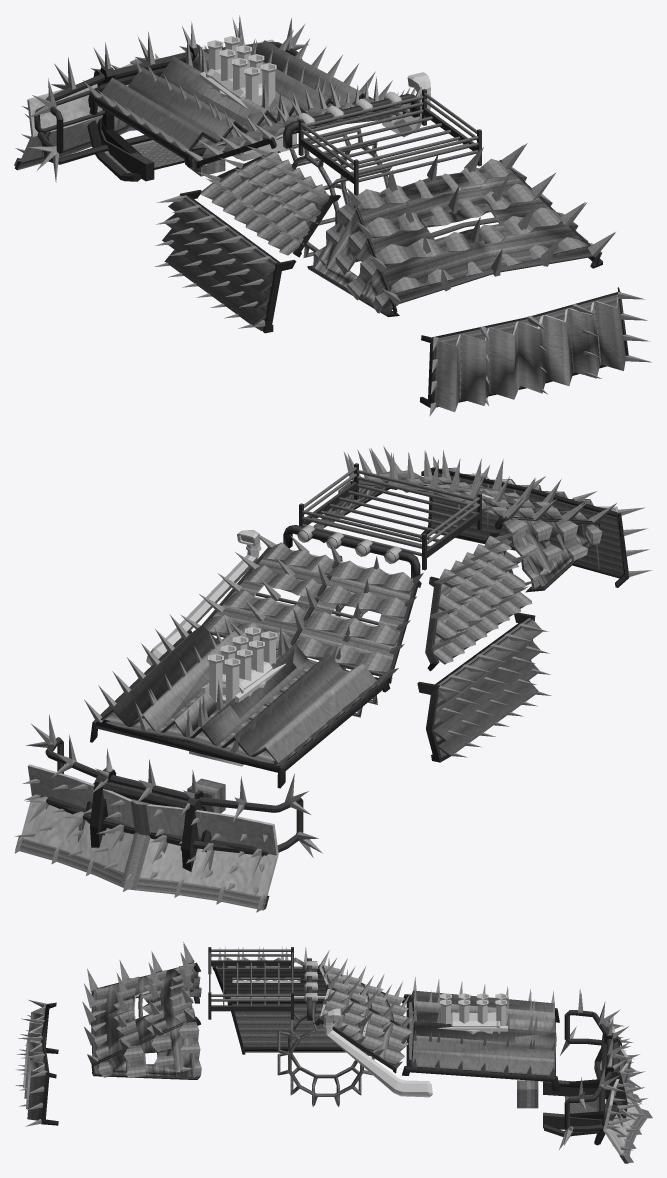
The model's file is SportsCarArmor.fbx.
3 views of the same model, one above another, from view 1: azimuth 30°, elevation 25°; view 2: azimuth 150°, elevation 25°; view 3: azimuth 270°, elevation 25° (orthographic). The views are drawn at different scales.
Visible parts, largest first — view 1: trunkreinforcedrear, windowheavyrear, windowreinforcedrear, hoodreinforcedfront, roofrack, doorfrontreinforcedleft, windowfrontreinforcedleft, hoodreinforcedfrontscoop, plow, airscooppiped, pushbar_medium, hoodheavyspikedfront (+19 smaller); view 2: plow, hoodreinforcedfrontscoop, hoodreinforcedfront, windowreinforcedfront, plow_spiked, roofrack, doorfrontreinforcedleft, windowfrontreinforcedleft, pushbar_large_spiked, windowreinforcedrear, windowheavyfront, windowheavyspikedfront (+24 smaller); view 3: hoodreinforcedfront, windowheavyrear, windowreinforcedrear, hoodreinforcedfrontscoop, windowreinforcedfront, doorfrontheavyleft, roofrack, windowfrontheavyleft, chaintires, pushbar_large_spiked, trunkreinforcedrear, snorkel (+21 smaller).
Part boxes in pixels (x1,y1,x2,y2): trunkreinforcedrear: [432, 292, 625, 412]; windowheavyrear: [307, 160, 602, 317]; windowreinforcedrear: [313, 158, 601, 313]; hoodreinforcedfront: [101, 40, 370, 158]; roofrack: [298, 89, 481, 195]; doorfrontreinforcedleft: [162, 195, 279, 330]; windowfrontreinforcedleft: [200, 151, 329, 255]; hoodreinforcedfrontscoop: [100, 40, 362, 148]; plow: [14, 39, 274, 170]; airscooppiped: [200, 36, 296, 161]; pushbar_medium: [41, 60, 192, 181]; hoodheavyspikedfront: [84, 30, 392, 151]; plow: [14, 764, 278, 912]; hoodreinforcedfrontscoop: [96, 625, 379, 772]; hoodreinforcedfront: [103, 631, 383, 766]; windowreinforcedfront: [203, 542, 413, 673]; plow_spiked: [14, 766, 275, 896]; roofrack: [299, 463, 481, 570]; doorfrontreinforcedleft: [433, 618, 542, 761]; windowfrontreinforcedleft: [433, 536, 532, 664]; pushbar_large_spiked: [26, 714, 322, 878]; windowreinforcedrear: [314, 470, 602, 589]; windowheavyfront: [202, 548, 414, 683]; windowheavyspikedfront: [181, 535, 423, 682]; hoodreinforcedfront: [406, 990, 555, 1075]; windowheavyrear: [91, 962, 200, 1079]; windowreinforcedrear: [92, 963, 201, 1077]; hoodreinforcedfrontscoop: [407, 990, 555, 1075]; windowreinforcedfront: [322, 965, 411, 1065]; doorfrontheavyleft: [227, 997, 363, 1054]; roofrack: [208, 947, 293, 1019]; windowfrontheavyleft: [212, 964, 327, 998]; chaintires: [277, 1002, 374, 1106]; pushbar_large_spiked: [559, 989, 645, 1149]; trunkreinforcedrear: [23, 1004, 49, 1120]; snorkel: [323, 1008, 432, 1097].
Size of the model in its own units: 248 by 160 by 605.
